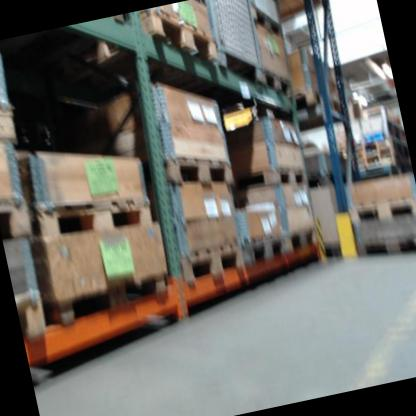pallet: (24, 176, 155, 251), (140, 0, 222, 77), (158, 146, 234, 197), (176, 236, 246, 285), (345, 187, 416, 232), (232, 158, 307, 199), (352, 223, 416, 270), (239, 228, 293, 280), (12, 281, 54, 345), (0, 186, 33, 243), (258, 56, 297, 103), (282, 222, 322, 260), (0, 81, 21, 142)
stillage: (199, 0, 273, 98)
